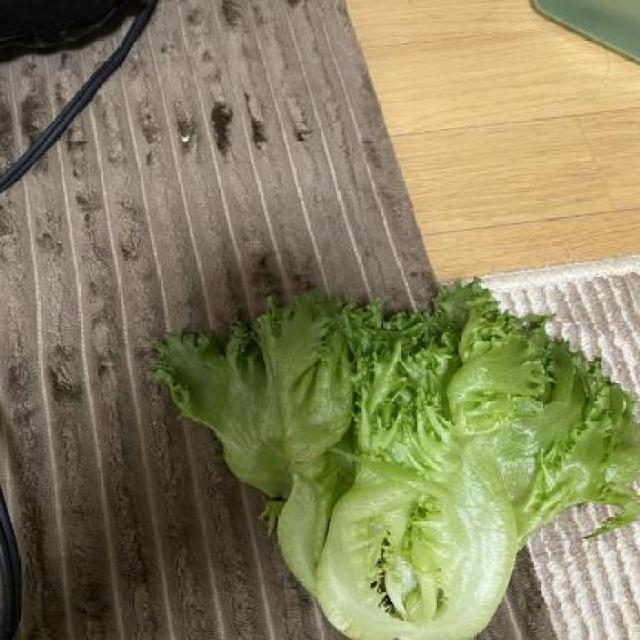Lettuce head: (134, 272, 640, 640)
